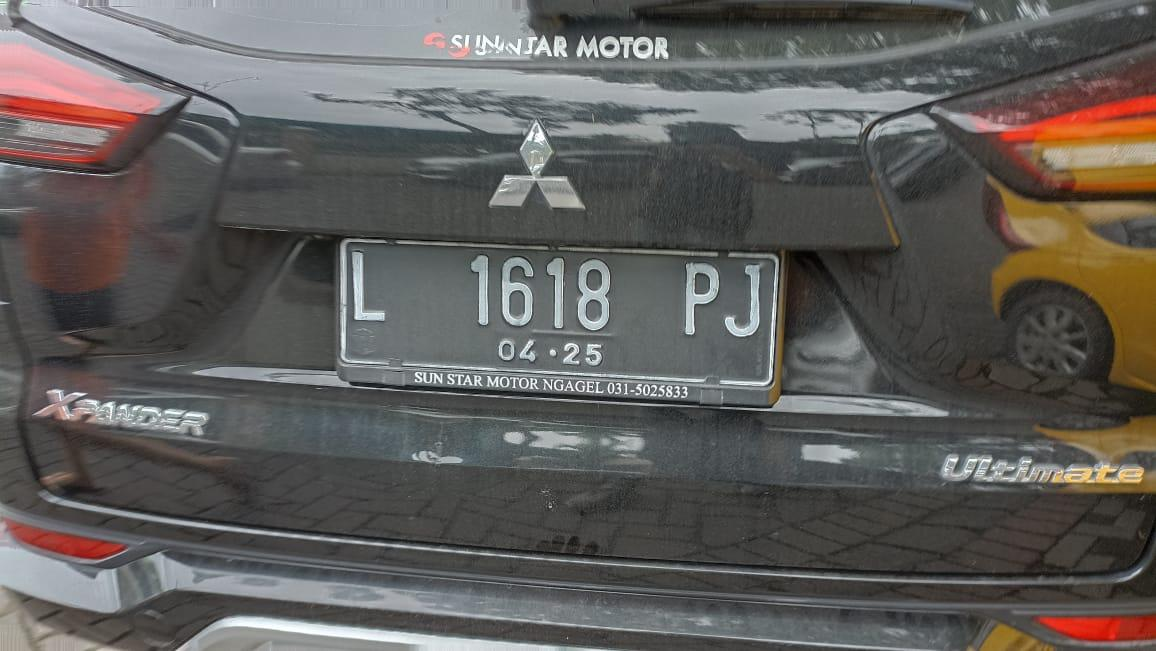plat: (339, 239, 783, 406)
